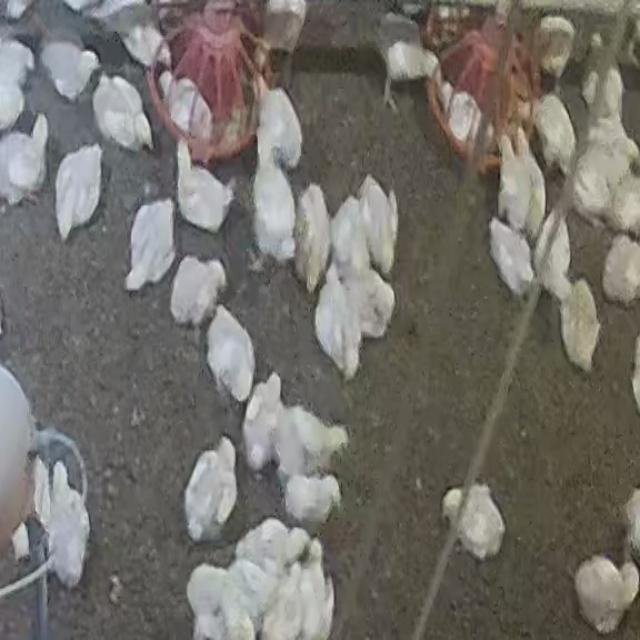chicken: (369, 11, 443, 96), (173, 141, 235, 237), (313, 267, 363, 382), (251, 147, 298, 264), (184, 437, 236, 541), (47, 458, 89, 586), (90, 74, 153, 156), (0, 114, 51, 211), (575, 558, 638, 636), (54, 144, 104, 242), (496, 132, 542, 236), (442, 486, 504, 560), (341, 258, 395, 342), (205, 307, 253, 401), (124, 201, 173, 291), (359, 172, 400, 276), (240, 370, 283, 468), (256, 86, 304, 172), (488, 216, 536, 300), (559, 279, 601, 373), (328, 193, 371, 283), (296, 186, 332, 293), (534, 213, 575, 306), (40, 39, 98, 104), (289, 406, 348, 469), (533, 92, 578, 174), (236, 518, 306, 570), (172, 257, 225, 325), (165, 75, 216, 145), (300, 535, 333, 640), (0, 39, 36, 132), (265, 561, 307, 640), (586, 121, 639, 181), (533, 14, 576, 81), (440, 87, 484, 150), (87, 1, 156, 40), (602, 235, 640, 305), (283, 475, 340, 521), (585, 60, 625, 125), (119, 22, 168, 74), (229, 562, 276, 614), (183, 564, 228, 613), (262, 1, 306, 50), (610, 169, 640, 238), (222, 592, 258, 639)
